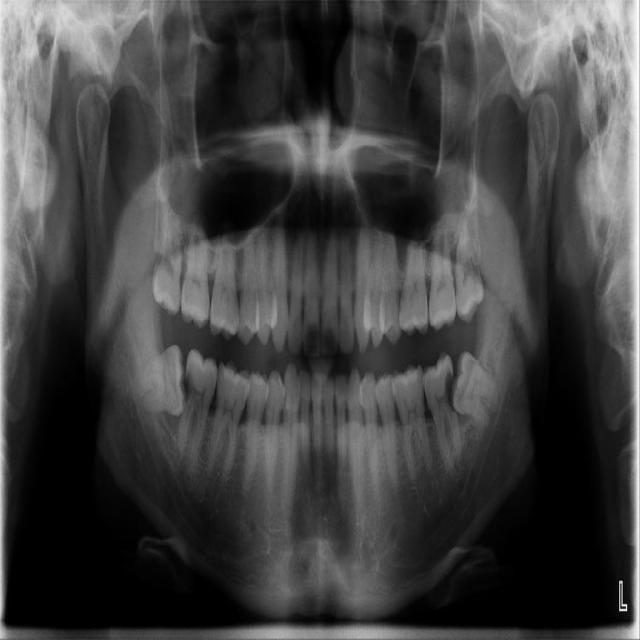Caries: (445, 371, 457, 412), (182, 374, 192, 401)
impacted tooth: (121, 344, 182, 413), (451, 354, 496, 435)
